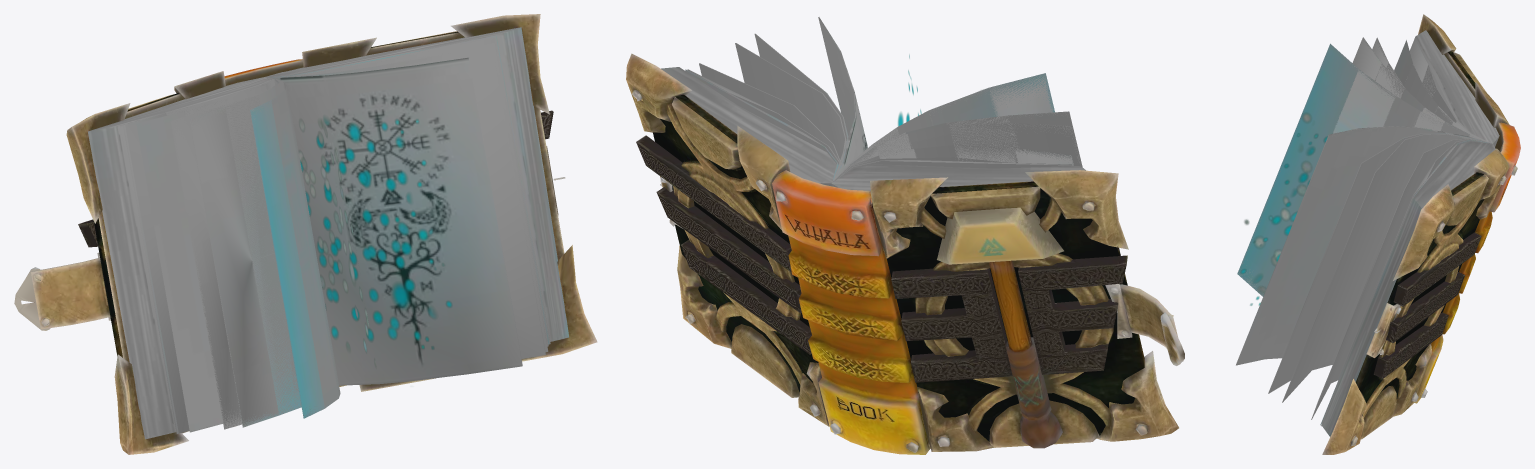
The model's file is trophy.glb.
3 renders of one model, left to right at view 1: azimuth 30°, elevation 25°; view 2: azimuth 150°, elevation 25°; view 3: azimuth 270°, elevation 25°, orthographic. The views are drawn at different scales.
Visible parts, largest first — view 1: Object_3, Object_2; view 2: Object_2, Object_3; view 3: Object_3, Object_2.
Boxes of the visible parts, x1,y1,x2,y2 form: Object_3: (88,27,568,439); Object_2: (14,14,597,454); Object_2: (626,53,1184,454); Object_3: (661,17,1085,190); Object_3: (1236,30,1499,436); Object_2: (1322,14,1520,454).
Bounding box in the file's own units: 456 × 292 × 267.
Materials: 2 (2 with a texture image).
